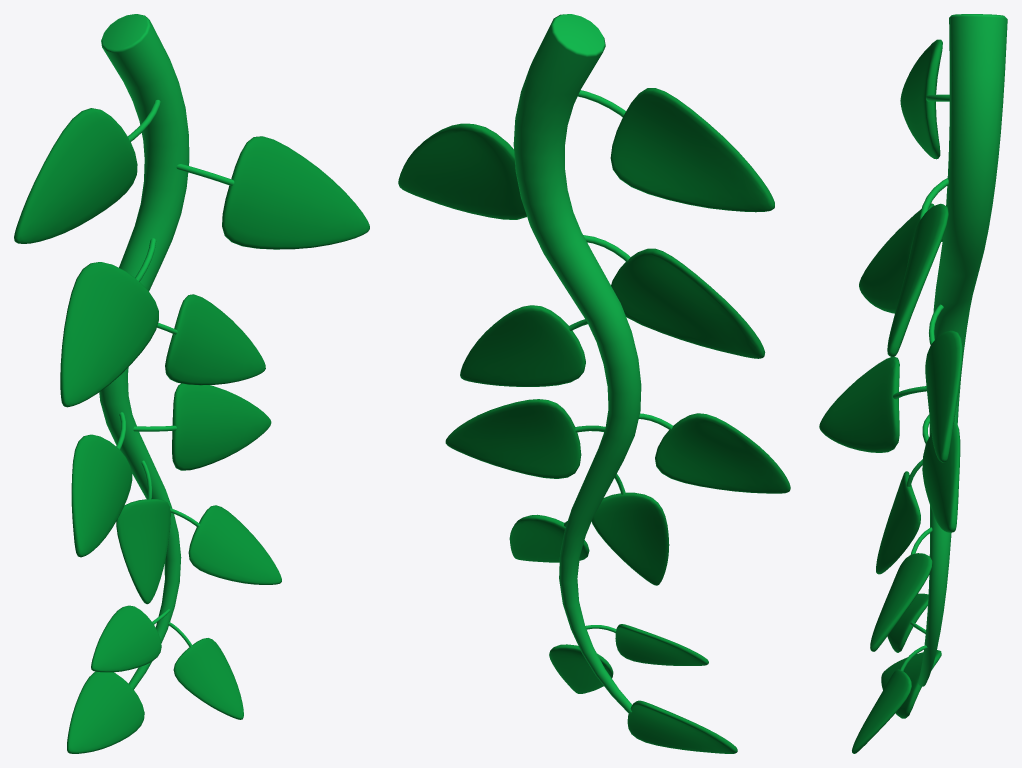
The model's file is Town_20_Ivy_3.glb.
3 views of the same model, side by side, from view 1: azimuth 30°, elevation 25°; view 2: azimuth 150°, elevation 25°; view 3: azimuth 270°, elevation 25° (orthographic). The views are drawn at different scales.
Visible parts, largest first — view 1: Town_20_Ivy_3; view 2: Town_20_Ivy_3; view 3: Town_20_Ivy_3.
Boxes of the visible parts, box(x1,y1,x2,y2) form: Town_20_Ivy_3: box(14, 14, 369, 753); Town_20_Ivy_3: box(398, 14, 790, 753); Town_20_Ivy_3: box(819, 14, 1007, 753).
Bounding box in the file's own units: 1.17 × 2.18 × 0.5101.
Materials: 1 (1 with a texture image).
